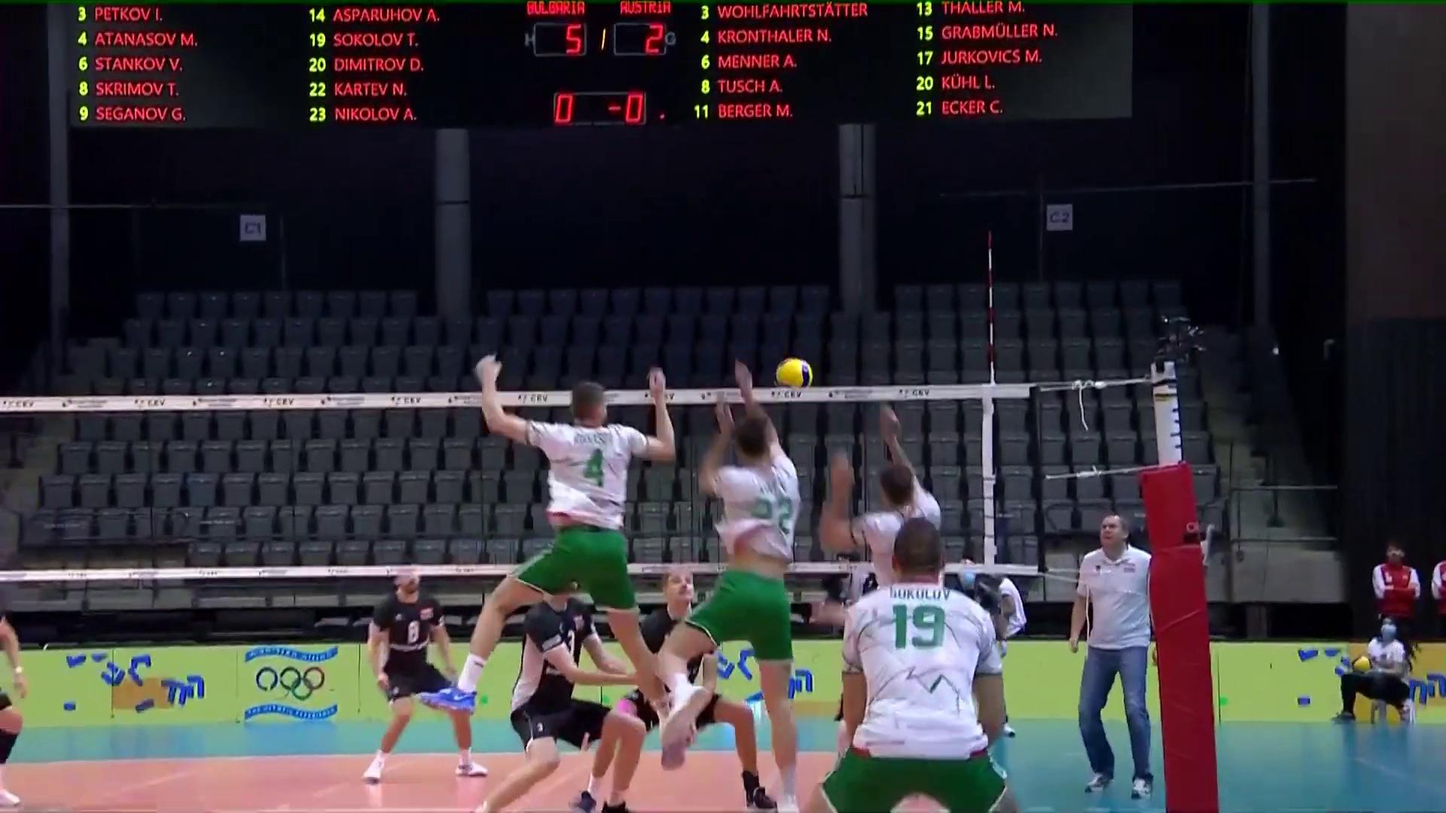ball: (773, 359, 814, 389)
